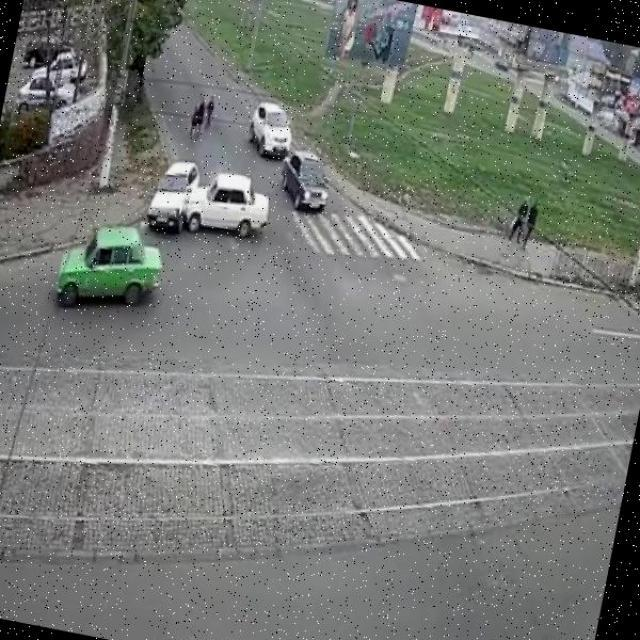accident: (145, 154, 275, 253)
